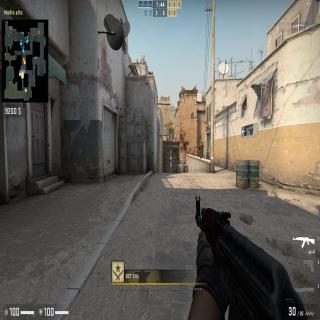CT-Head: (175, 168, 178, 170)
T-Head: (183, 162, 184, 165), (200, 143, 201, 145)
